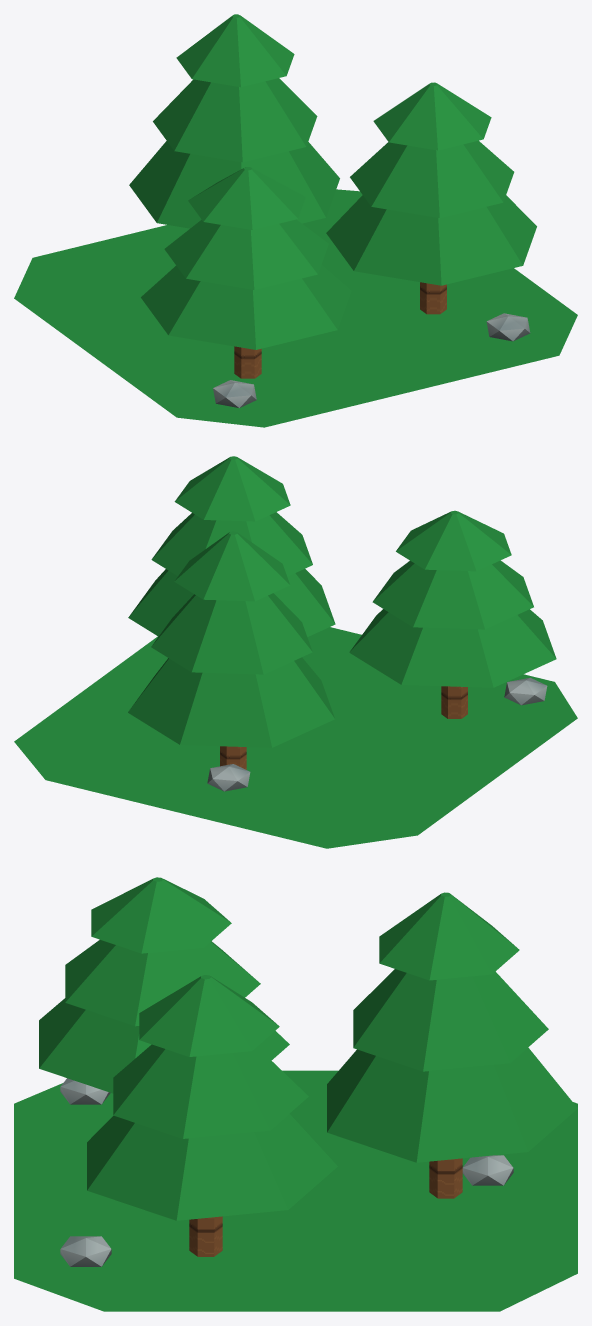
The model's file is forest-island-2x2.glb.
The picture shows the model from 3 angles, top to bottom: view 1: azimuth 30°, elevation 25°; view 2: azimuth 150°, elevation 25°; view 3: azimuth 270°, elevation 25°; orthographic projection. The views are drawn at different scales.
Visible parts, largest first — view 1: forest-island-2x2; view 2: forest-island-2x2; view 3: forest-island-2x2.
Boxes of the visible parts, box(x1,y1,x2,y2) form: forest-island-2x2: box(14, 14, 577, 427); forest-island-2x2: box(14, 456, 577, 848); forest-island-2x2: box(14, 877, 577, 1311).
Size of the model in its own units: 1.9 by 1.1 by 1.88.
Materials: 1 (1 with a texture image).
